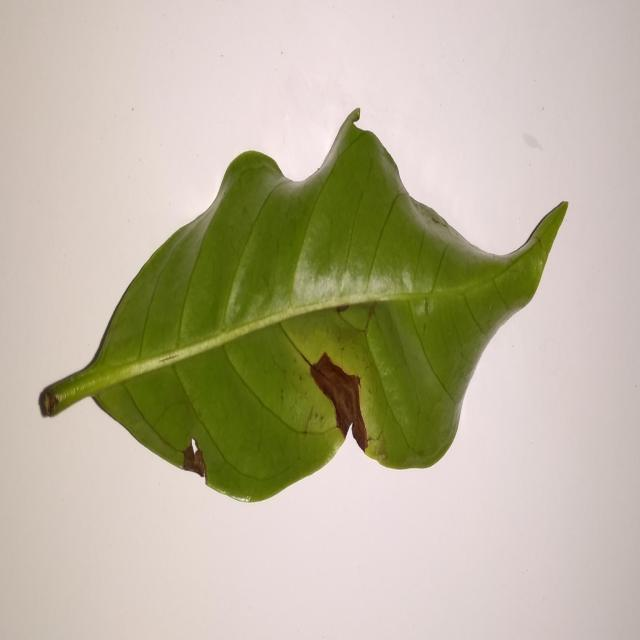phoma: (306, 352, 369, 453), (181, 438, 208, 484)
